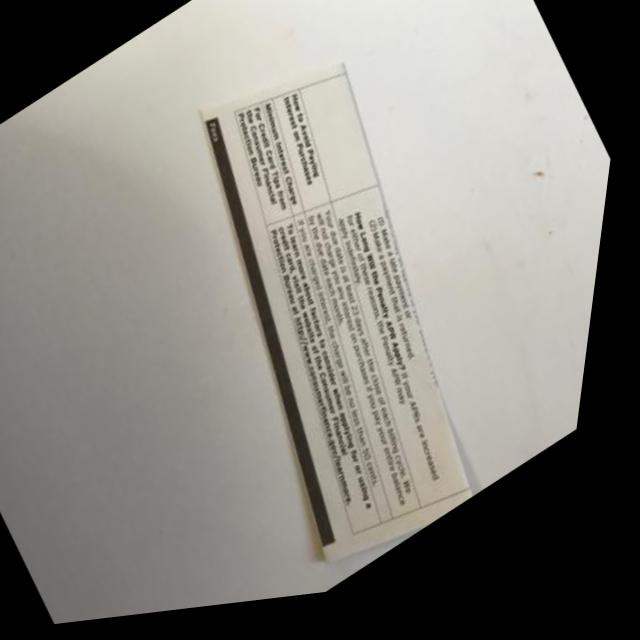paper: (27, 0, 614, 632)
